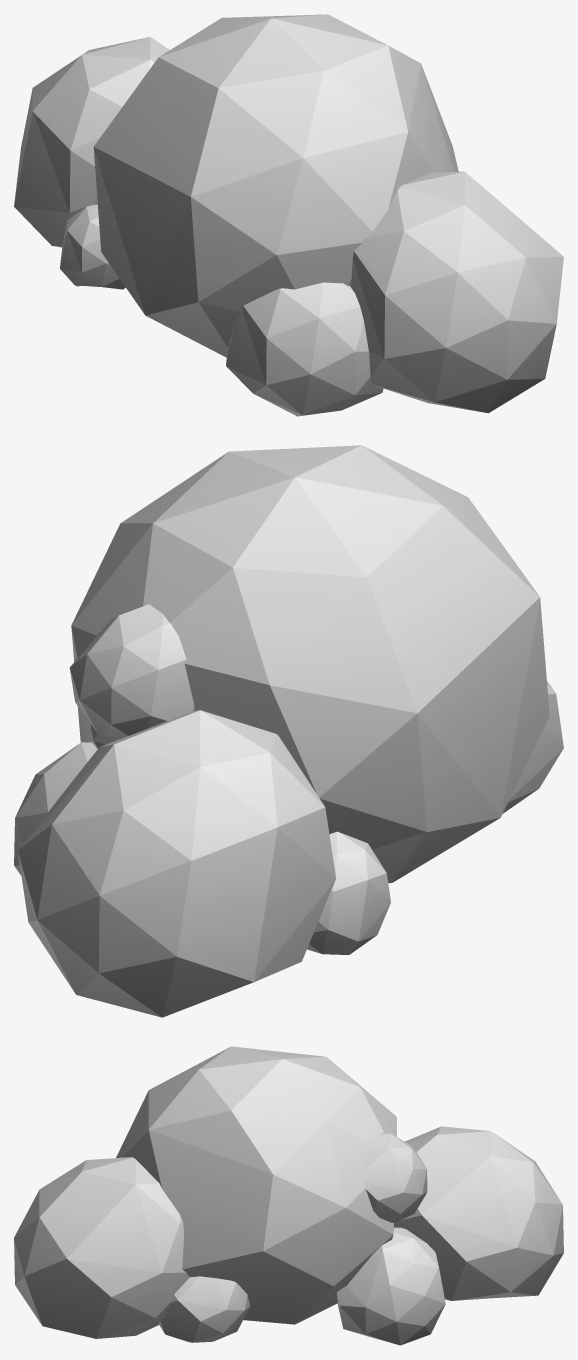
The model's file is cloud.glb.
3 views of the same model, one above another, from view 1: azimuth 30°, elevation 25°; view 2: azimuth 150°, elevation 25°; view 3: azimuth 270°, elevation 25° (orthographic). The views are drawn at different scales.
Parts seen in each view (by area): view 1: cloud_A_01; view 2: cloud_A_01; view 3: cloud_A_01.
Boxes of the visible parts, x1=… form: cloud_A_01: x1=14, y1=14, x2=563, y2=416; cloud_A_01: x1=14, y1=445, x2=563, y2=1017; cloud_A_01: x1=14, y1=1046, x2=563, y2=1345.
Bounding box in the file's own units: 7.29 × 6.97 × 13.68.
Materials: 1 (1 with a texture image).
